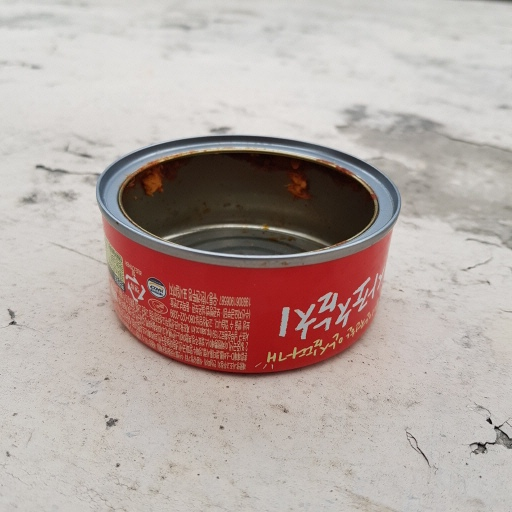Metal_1: (94, 132, 401, 374)
